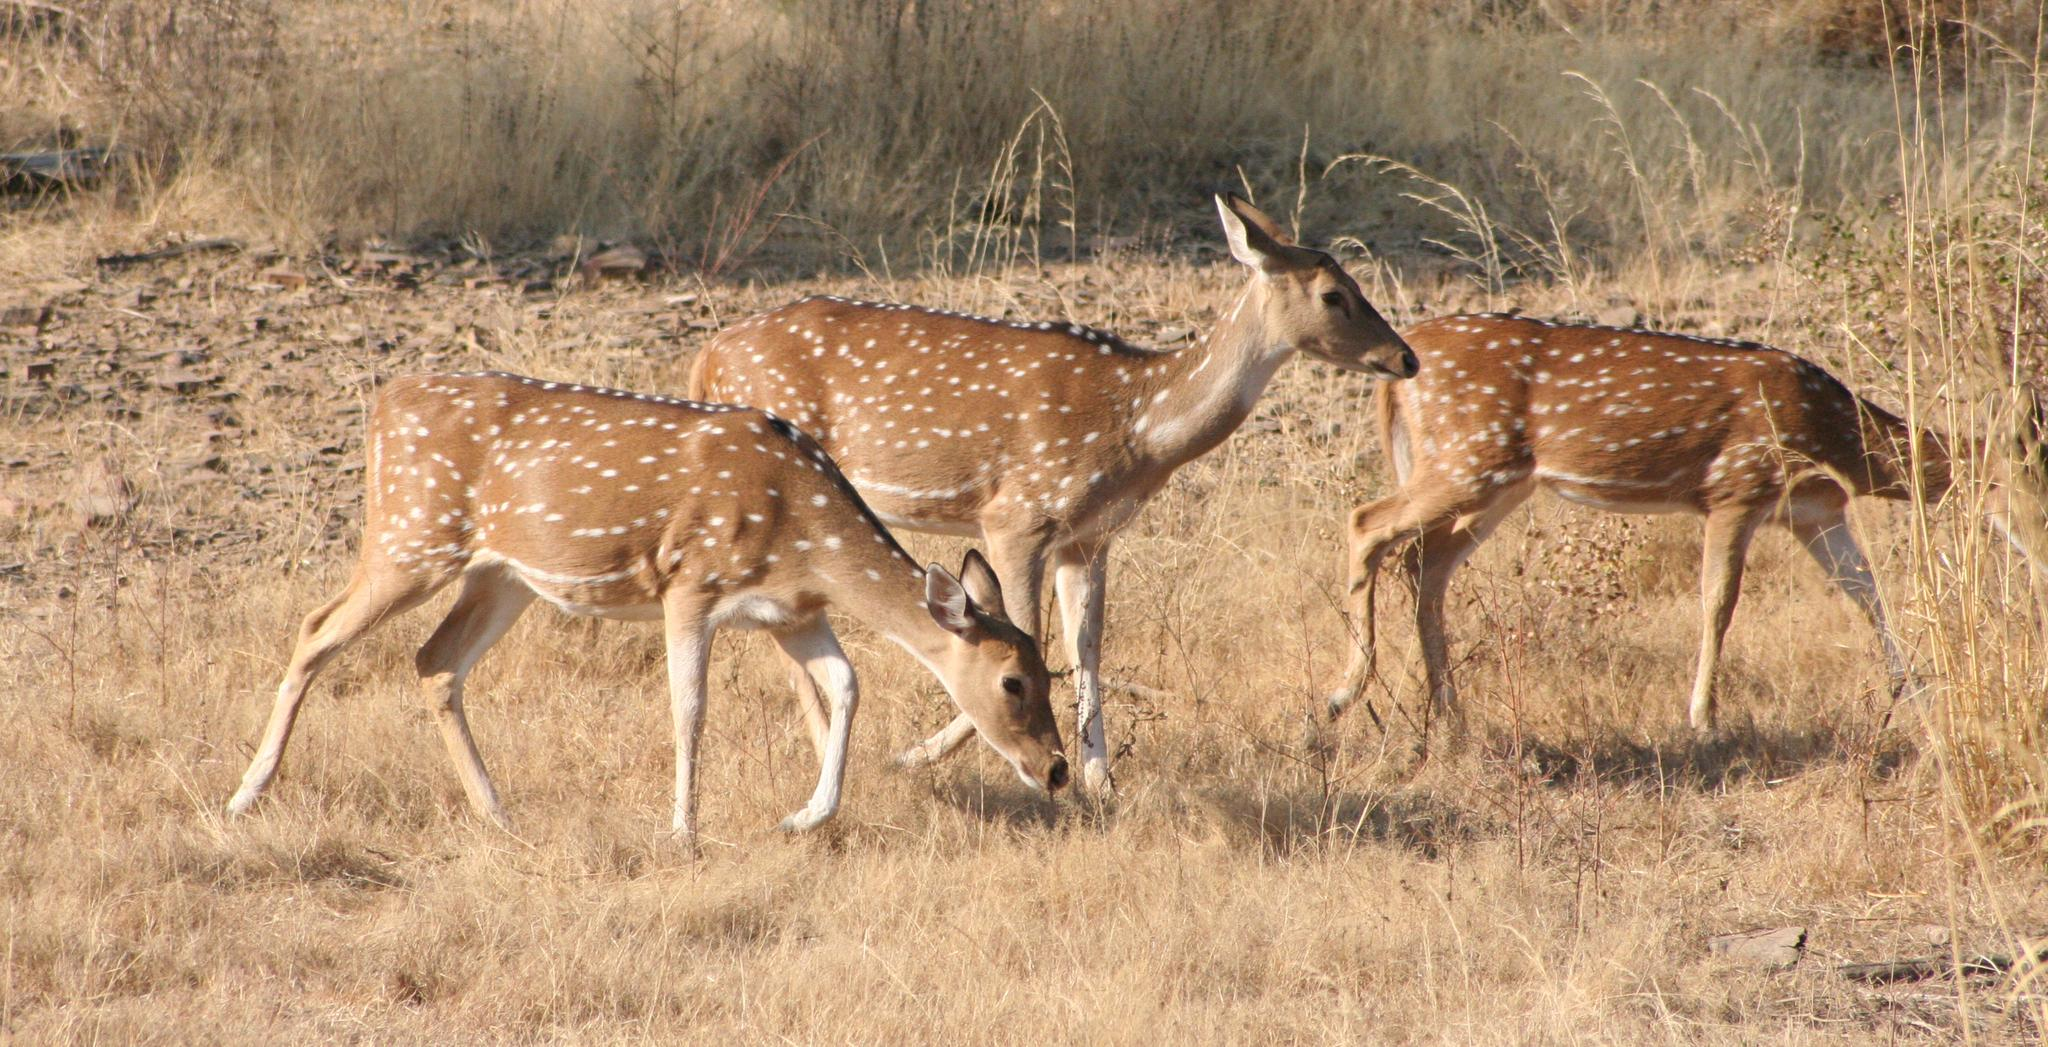Deer: (688, 195, 1418, 787), (230, 373, 1069, 840), (1332, 314, 1910, 729)
